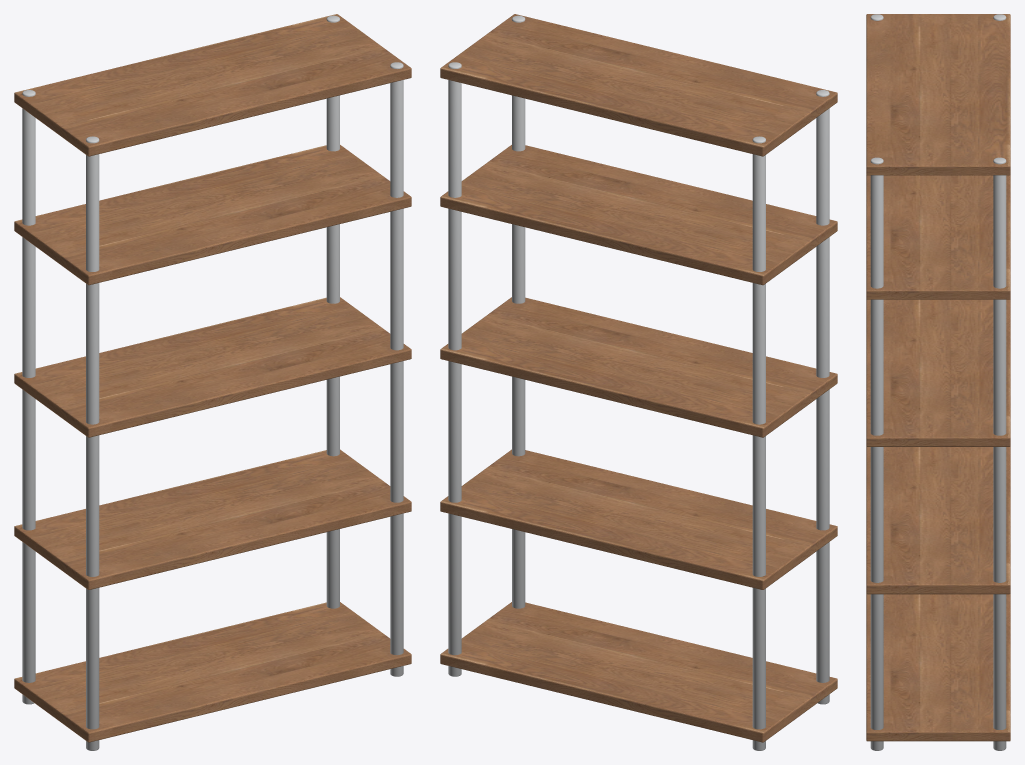
Rendered from shelving.glb.
The picture shows the model from 3 angles, left to right: view 1: azimuth 30°, elevation 25°; view 2: azimuth 150°, elevation 25°; view 3: azimuth 270°, elevation 25°; orthographic projection. The views are drawn at different scales.
Parts seen in each view (by area): view 1: Shelving; view 2: Shelving; view 3: Shelving.
Boxes of the visible parts, x1,y1,x2,y2 form: Shelving: (14,14,411,750); Shelving: (440,14,837,750); Shelving: (866,14,1010,750).
Size of the model in its own units: 1 by 1.8 by 0.4.
Materials: 2 (1 with a texture image).
